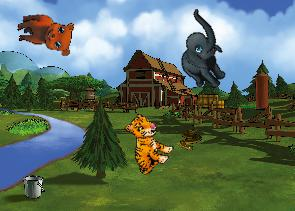bear: (16, 14, 74, 56)
elephant: (158, 8, 247, 96)
tiger: (110, 110, 180, 179)
